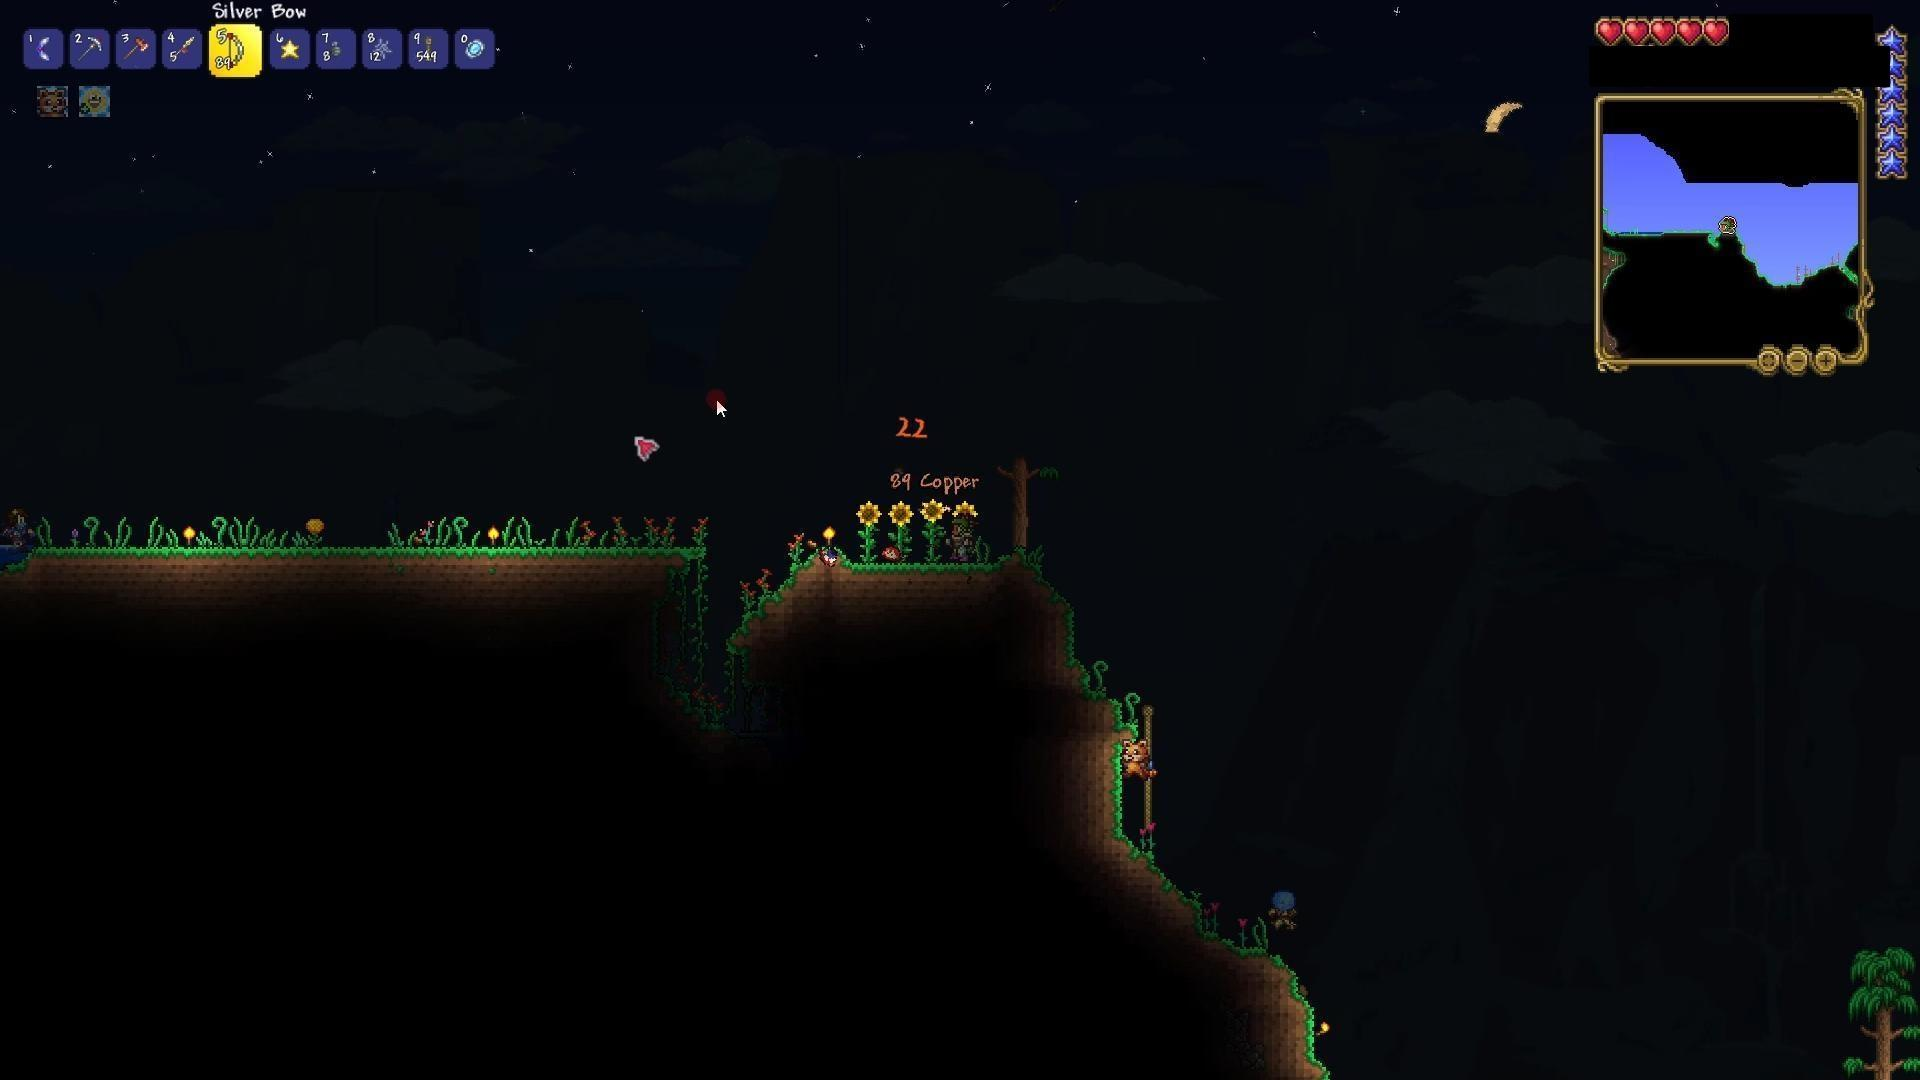dirt: (30, 537, 702, 570), (992, 550, 1106, 702), (727, 543, 835, 638), (1121, 837, 1217, 940), (1054, 715, 1130, 829), (1282, 960, 1332, 1080), (1203, 920, 1288, 971), (839, 559, 956, 576)
heart: (1702, 17, 1733, 51), (1593, 16, 1626, 46), (1676, 15, 1704, 50), (1650, 16, 1676, 49), (1625, 15, 1651, 44)
tree: (1850, 935, 1920, 1080)
